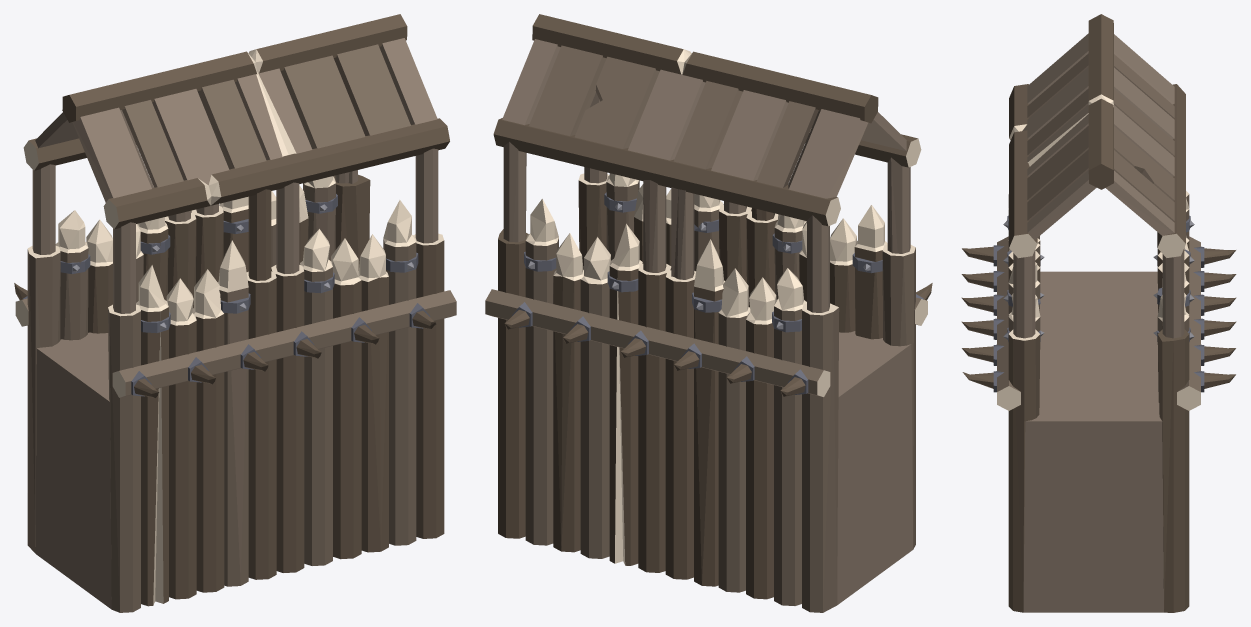
Rendered from _WALL_2_01.fbx.
The picture shows the model from 3 angles, left to right: view 1: azimuth 30°, elevation 25°; view 2: azimuth 150°, elevation 25°; view 3: azimuth 270°, elevation 25°; orthographic projection. The views are drawn at different scales.
Visible parts, largest first — view 1: WALL_2_01; view 2: WALL_2_01; view 3: WALL_2_01.
Boxes of the visible parts, x1,y1,x2,y2 form: WALL_2_01: (14,14,456,612); WALL_2_01: (485,14,932,612); WALL_2_01: (961,14,1236,612).
Bounding box in the file's own units: 556 × 769 × 427.
